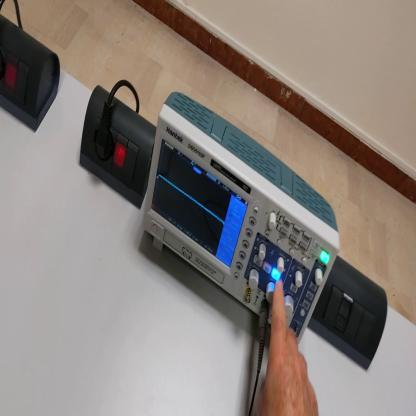hand: (256, 282, 318, 415)
oscilloscope: (143, 91, 343, 346)
socket: (77, 84, 157, 210), (2, 15, 60, 134)
